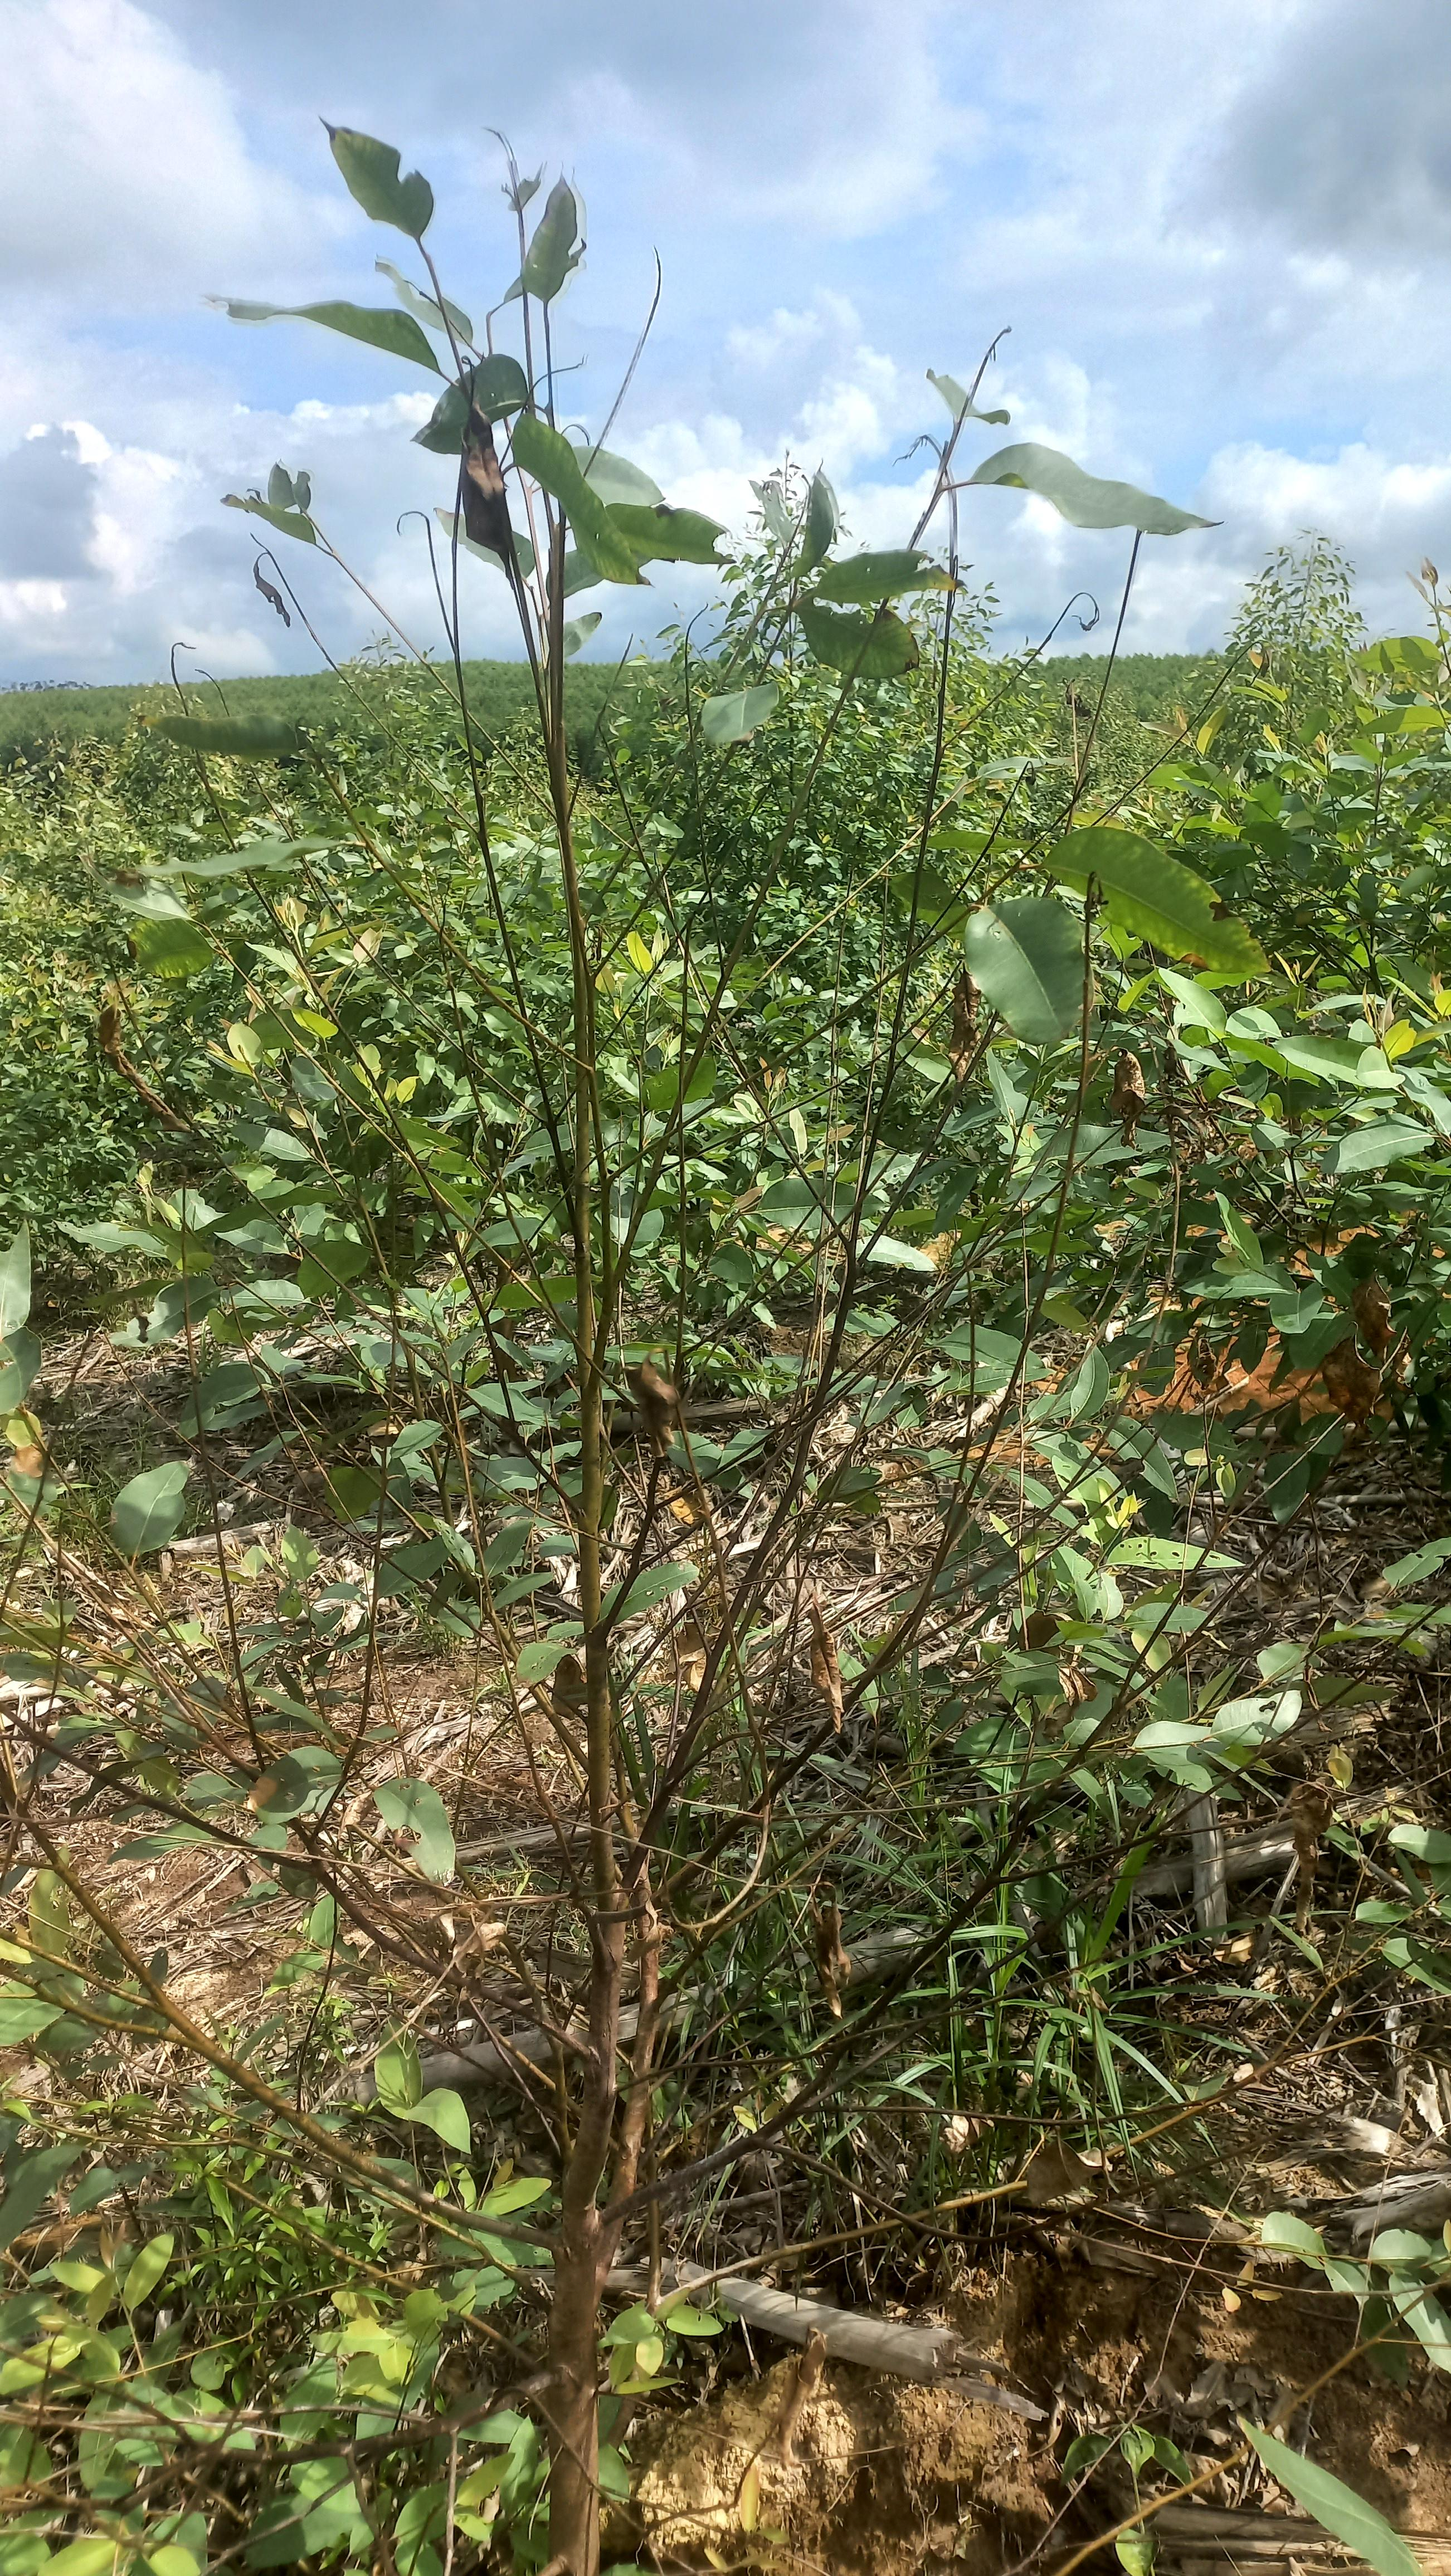Helopeltis-Withered Sprout: (455, 402, 529, 568), (99, 993, 179, 1134), (1283, 1771, 1345, 1944), (810, 1890, 864, 2022), (618, 1359, 685, 1456), (1023, 2134, 1104, 2212), (802, 1598, 846, 1729), (795, 2321, 832, 2465), (1348, 1270, 1394, 1384), (943, 970, 991, 1076), (1106, 1051, 1152, 1146), (453, 1907, 513, 1976), (251, 552, 299, 635), (669, 1484, 718, 1529)
